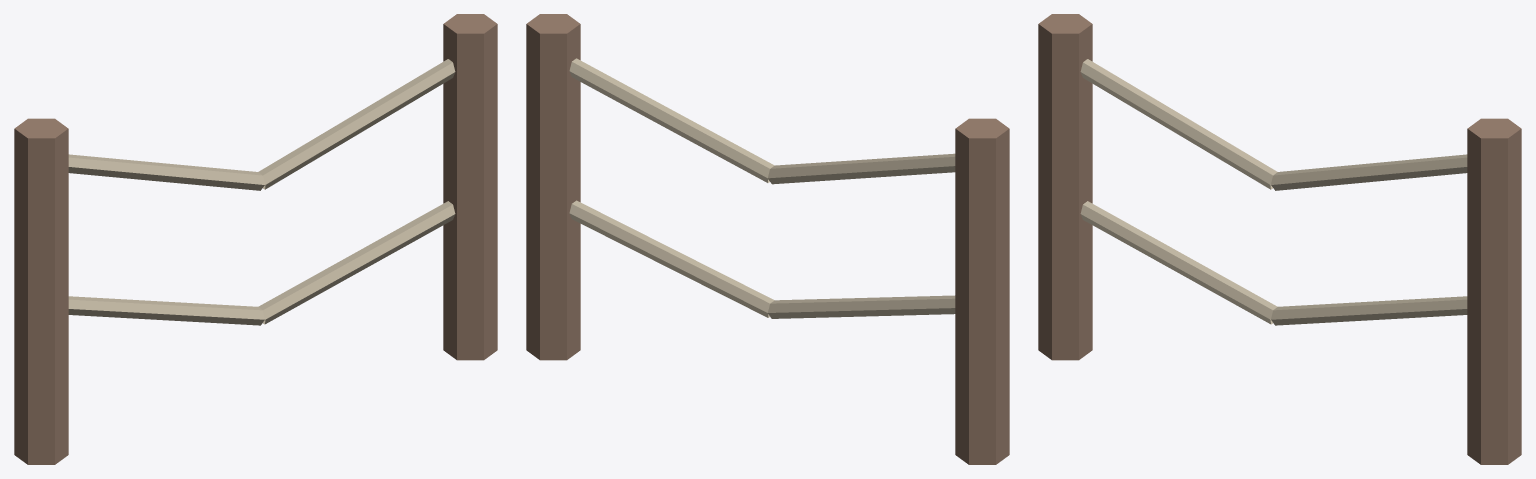
The picture shows the model from 3 angles, left to right: view 1: azimuth 30°, elevation 25°; view 2: azimuth 150°, elevation 25°; view 3: azimuth 330°, elevation 25°; orthographic projection.
Parts seen in each view (by area): view 1: H12; view 2: H12; view 3: H12.
Part boxes in pixels (x1,y1,x2,y2): H12: [14, 14, 497, 464]; H12: [526, 14, 1009, 464]; H12: [1038, 14, 1521, 464].
Bounding box in the file's own units: 1.2 × 0.8 × 0.12.
